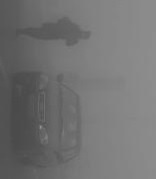person: (16, 16, 92, 47)
